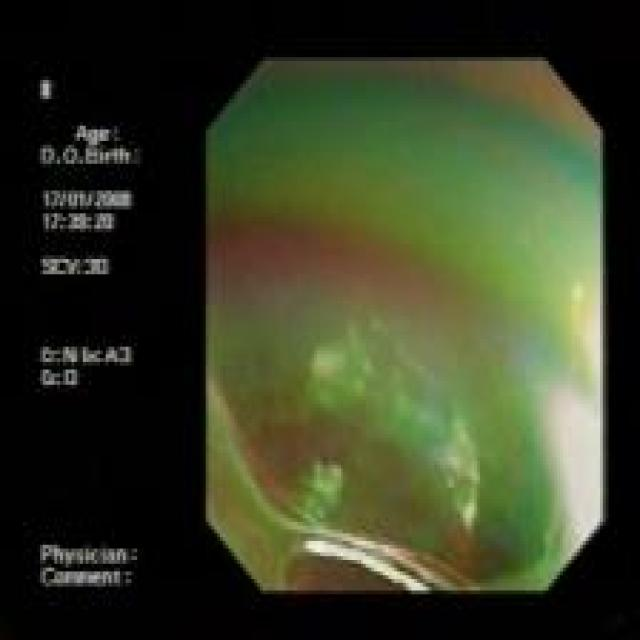color misalignment: (207, 59, 602, 590), (39, 79, 142, 597)
saturation: (542, 382, 603, 544)
specularity: (308, 539, 363, 567)
